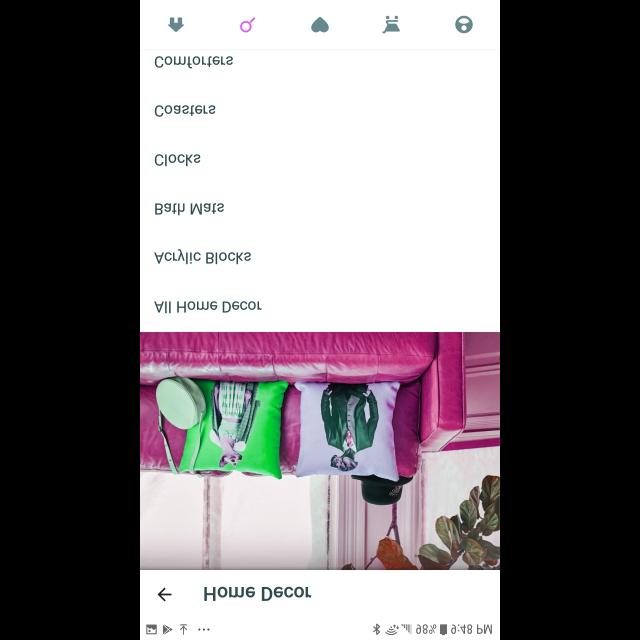icon: (382, 16, 400, 34), (455, 15, 473, 33), (311, 17, 329, 33), (169, 16, 185, 32), (240, 18, 256, 32), (158, 587, 172, 601)
image: (140, 331, 500, 569)
text: (205, 586, 312, 602), (154, 248, 252, 264), (154, 300, 262, 314), (155, 56, 233, 68), (156, 202, 224, 215), (156, 105, 217, 117), (155, 154, 201, 166)
uppertaskbar: (140, 623, 500, 639)
